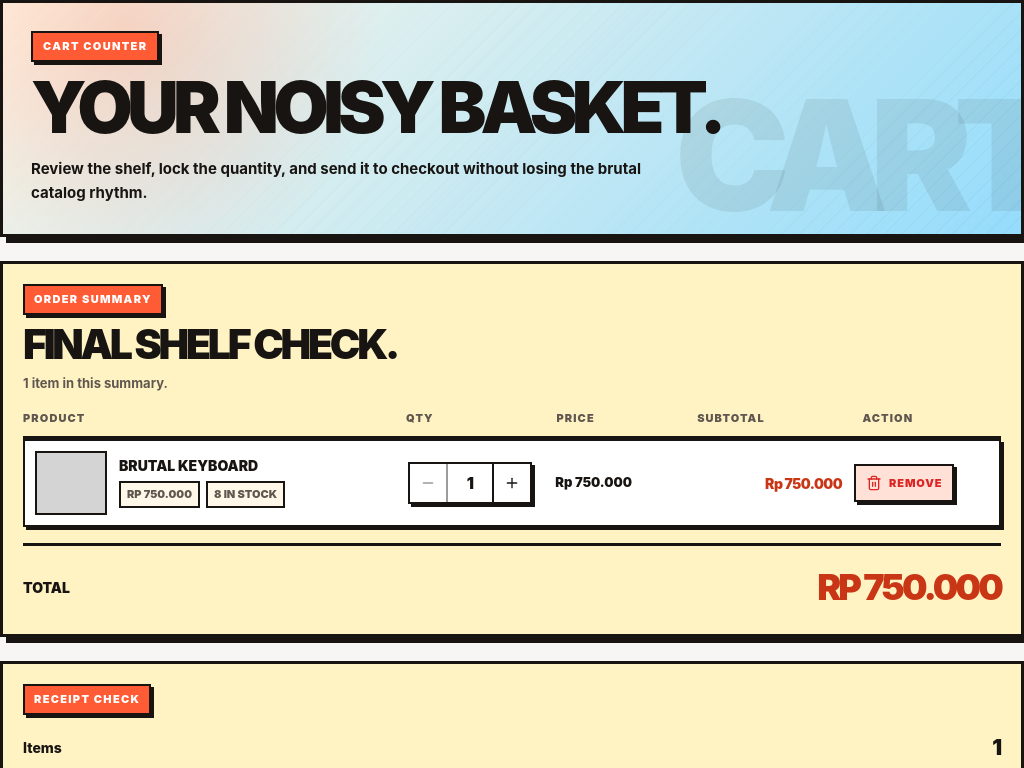
it: customer browsing, cart, and checkout flow › updates cart quantity, recalculates total, and removes the item
Check: the link "Brutal Keyboard" is shown, box [119,456,258,474]
Check: the text "Rp 750.000" in the row of "in stock" is shown, box [127,487,192,501]
What coordinates should you click on to do the following:
click the button named "Increase Brutal Keyboard quantity"
I would click on:
 (511, 483)
Its box is [492,464,530,502].
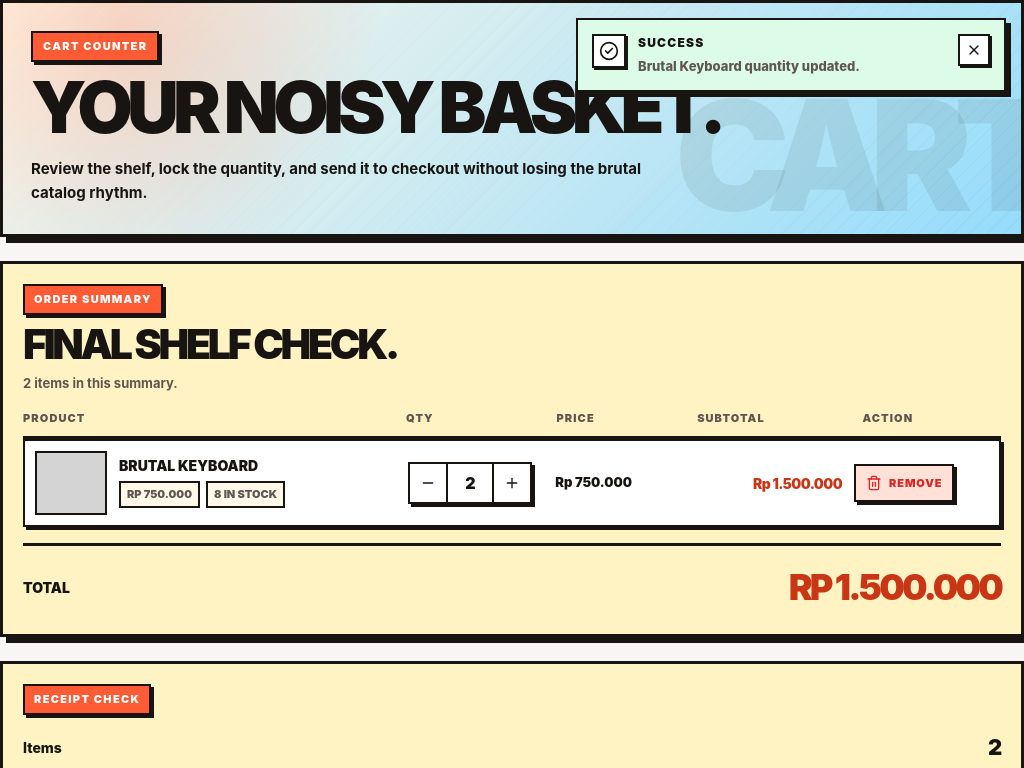
Check: the text "Rp 1.500.000" is shown, box [753,475,842,492]
What coordinates should you click on to do the following:
click the button "Remove"
I would click on:
 (904, 483)
Its box is [854,464,954,502].
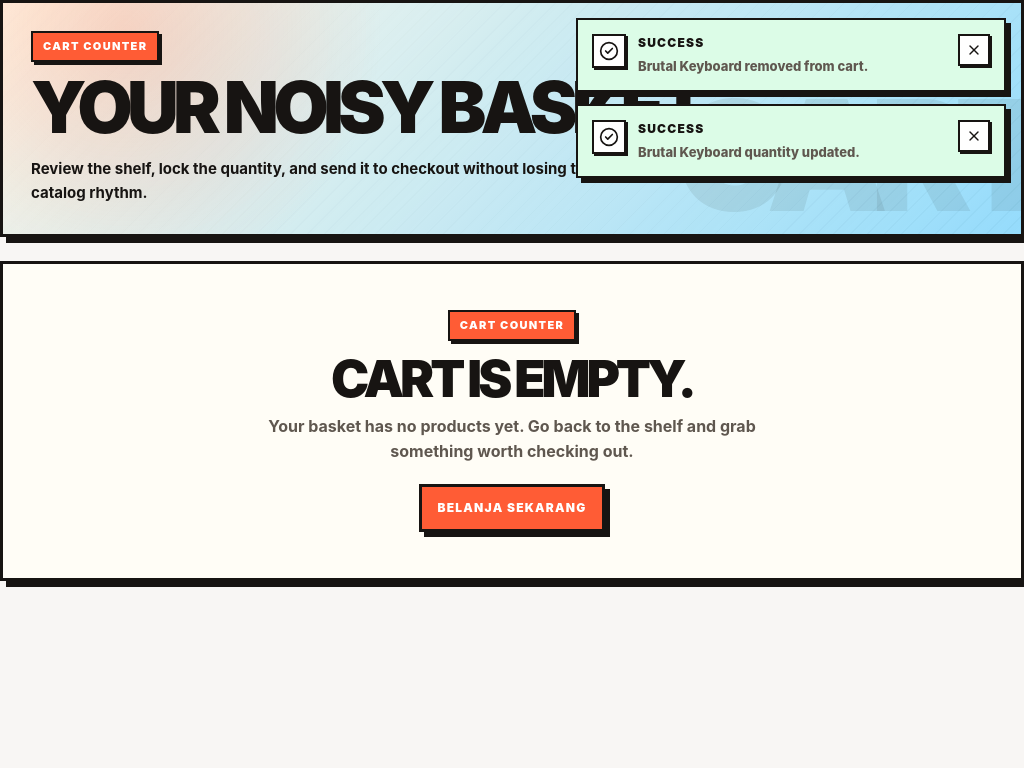
Check: the heading "Cart is empty." is shown, box [331,355,693,402]
